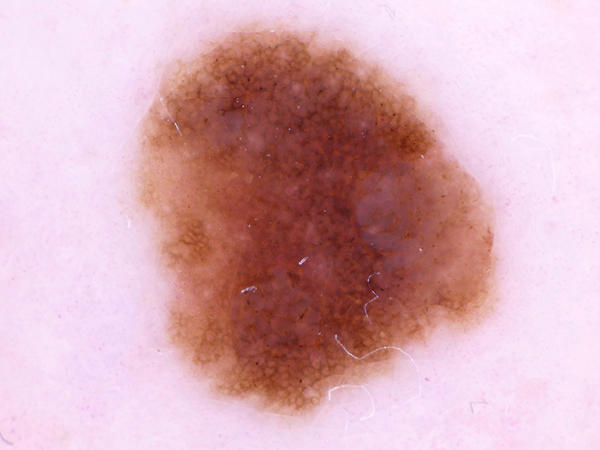Detected Lesion: (117, 16, 508, 418)
